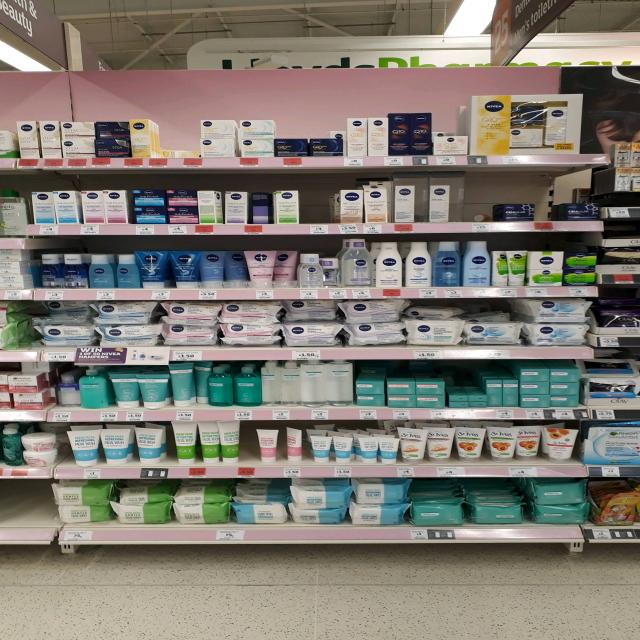void: (0, 479, 44, 545), (176, 112, 200, 170), (307, 184, 333, 234), (459, 171, 477, 233), (154, 115, 174, 169), (480, 170, 496, 232)
